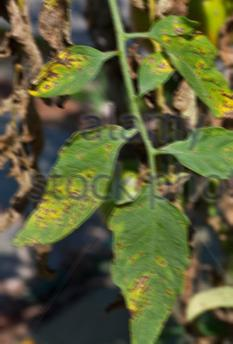Tomato Septoria leaf spot: (105, 177, 199, 344), (10, 118, 123, 255), (143, 7, 233, 116), (24, 41, 120, 104), (165, 118, 233, 192)
